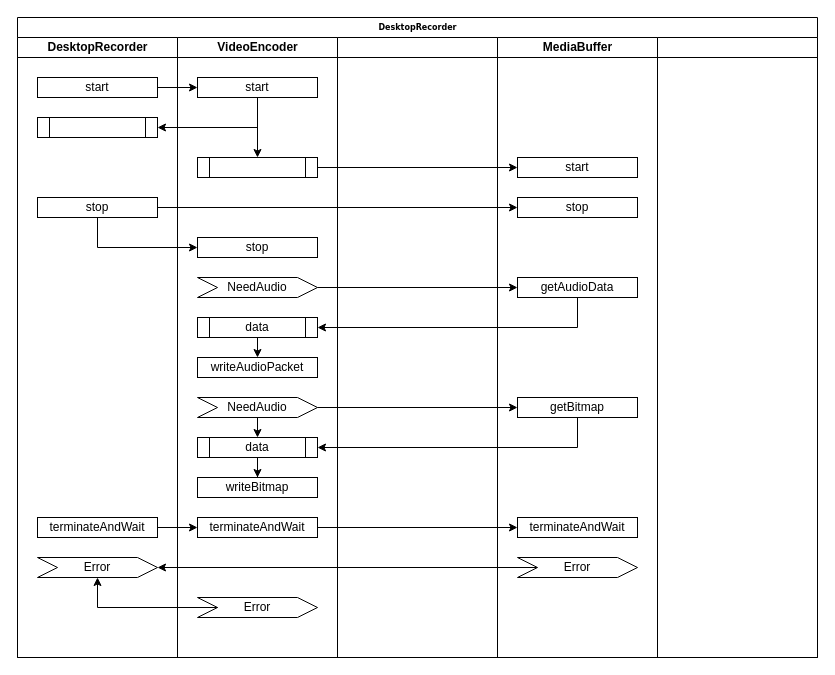
The diagram is 835 pixels wide and 675 high, and some of its shapes have lost their labels. Each missing label, with the centre of its shape:
false: point 97,127
true: point 257,167
